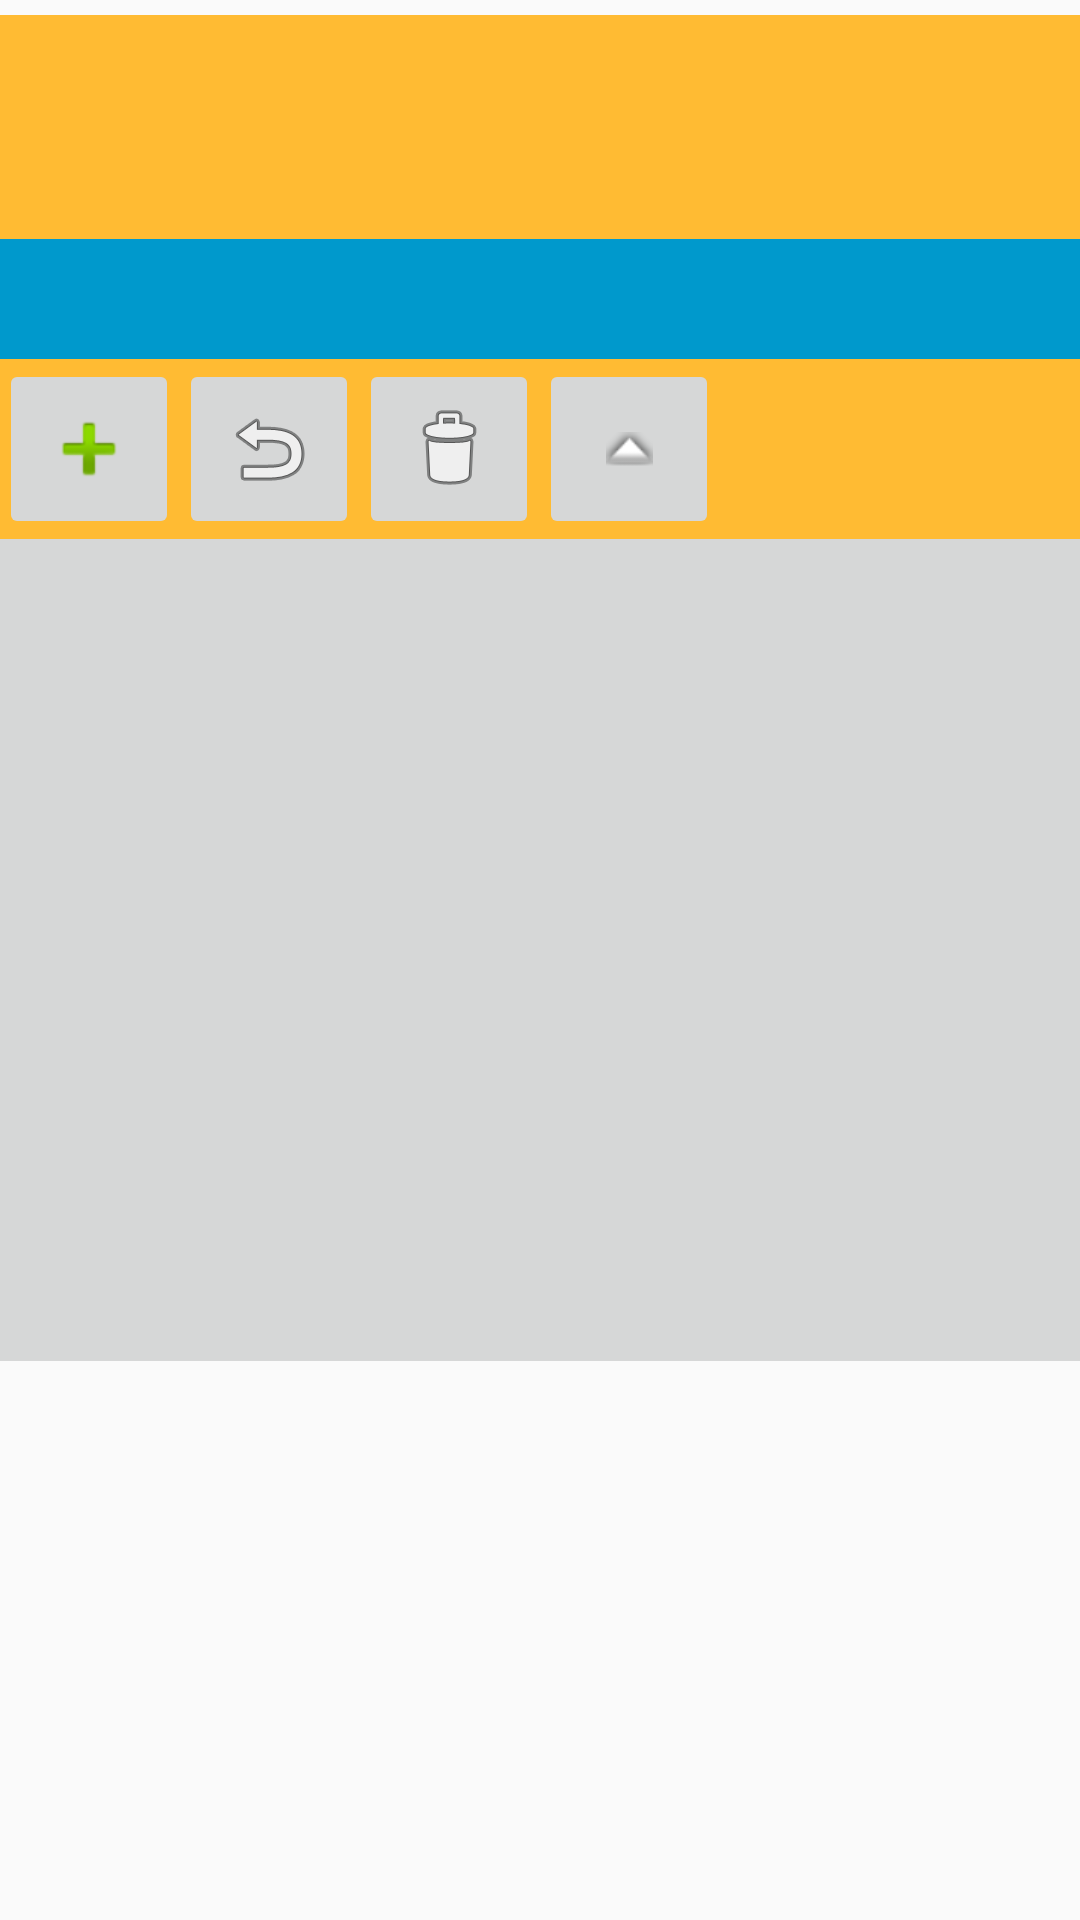

Point at icon controls on the screen. Image size 1080px x 1920px, points as [x,y].
add: [89,449]
arrow up float: [629,449]
delete: [449,449]
revert: [269,449]
